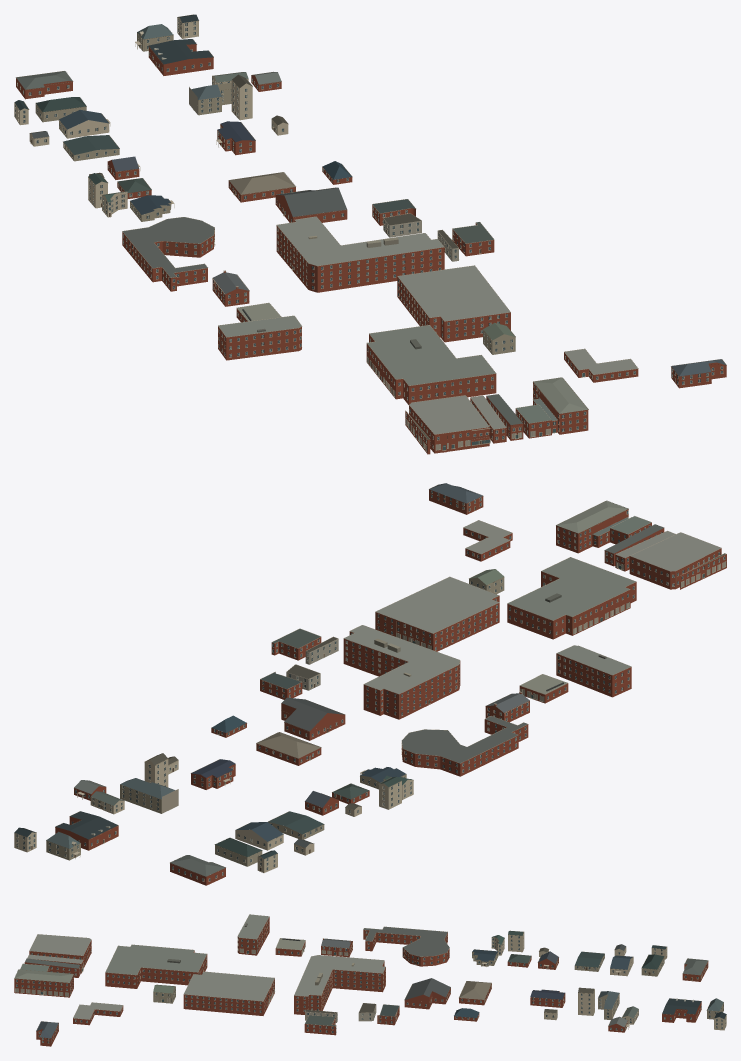
3 views of the same model, one above another, from view 1: azimuth 30°, elevation 25°; view 2: azimuth 150°, elevation 25°; view 3: azimuth 270°, elevation 25° (orthographic). The views are drawn at different scales.
Parts seen in each view (by area): view 1: 0_-1_451755569_0, 0_-1_625342609_23, 0_-1_599833470_7; view 2: 0_-1_451755569_0, 0_-1_625342609_23, 0_-1_599833470_7, 0_-1_-6782_188; view 3: 0_-1_451755569_0, 0_-1_625342609_23, 0_-1_599833470_7, 0_-1_-6782_188.
Part boxes in pixels (x1,y1,x2,y2): 0_-1_451755569_0: (14,14,726,454); 0_-1_625342609_23: (14,17,288,216); 0_-1_599833470_7: (35,32,515,354); 0_-1_451755569_0: (14,483,726,885); 0_-1_625342609_23: (14,759,413,872); 0_-1_599833470_7: (46,577,504,866); 0_-1_-6782_188: (286,639,338,690); 0_-1_451755569_0: (14,914,726,1046); 0_-1_625342609_23: (491,932,726,1030); 0_-1_599833470_7: (153,952,723,1019); 0_-1_-6782_188: (305,1005,376,1022).
Size of the model in its own units: 209 by 24.25 by 521.
